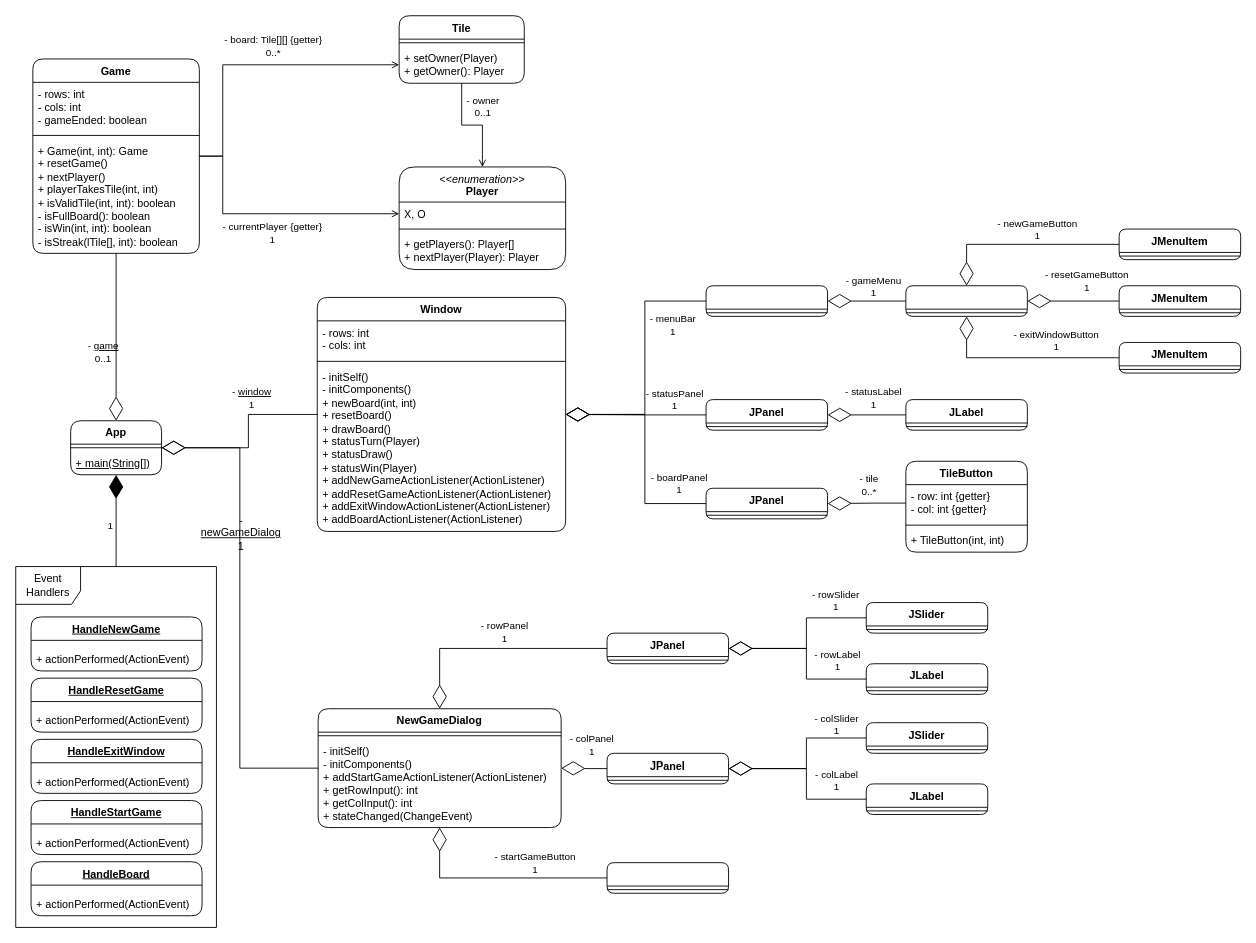
The diagram is 1256 pixels wide and 943 high, and some of its shapes have lost their labels. The shapes that lost their labels are listed below. From the top down, each one's centre as x and y in pixels, then its label:
point (766, 300): JMenuBar
point (966, 300): JMenu
point (667, 877): JButton
